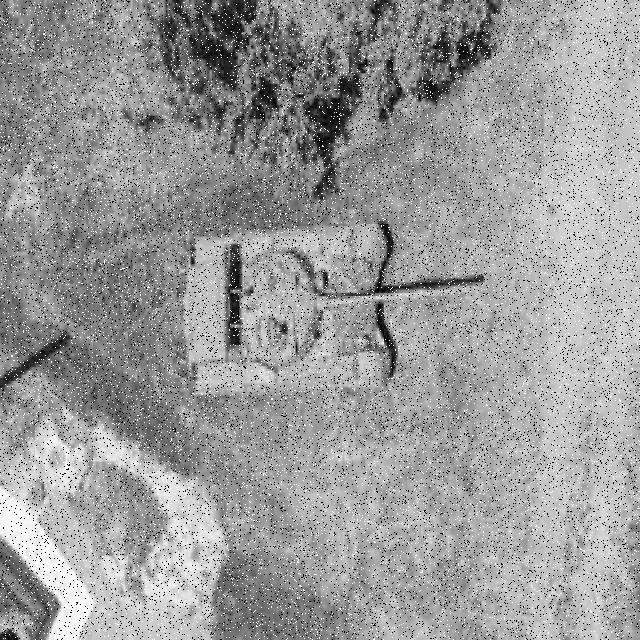MIL_MBT: (188, 225, 486, 391)
